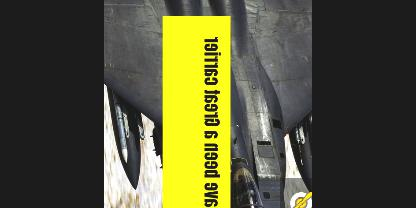F117: (105, 0, 312, 207)
